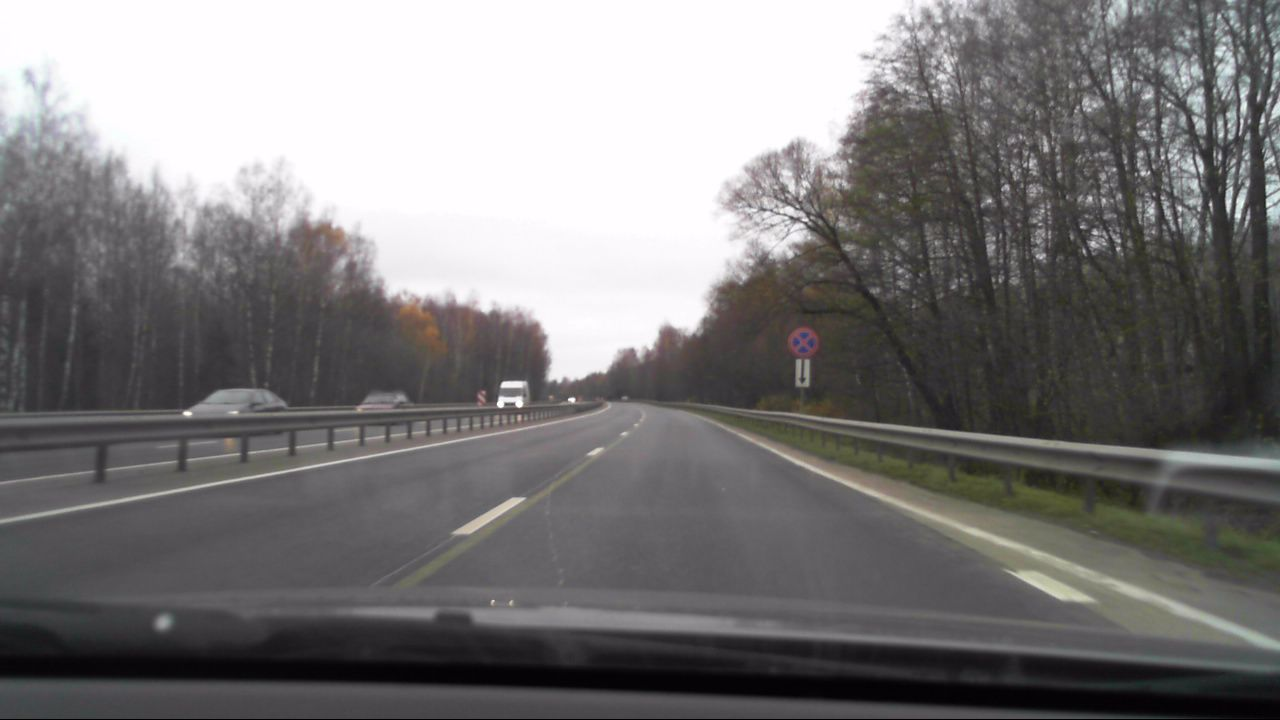No Parking: (787, 327, 815, 357)
